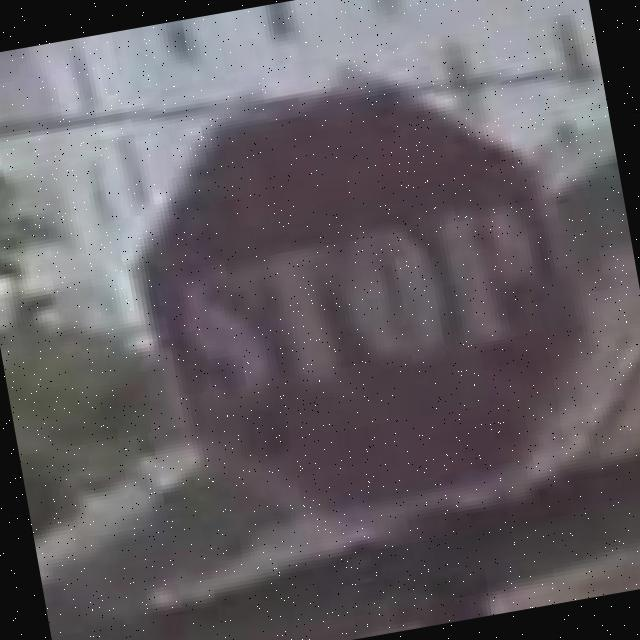Stop: (147, 71, 603, 538)
